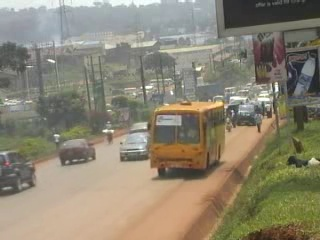Car: (0, 146, 41, 195), (56, 137, 98, 166), (118, 128, 153, 161), (128, 117, 151, 136)
Motorcycle: (223, 109, 234, 134)
